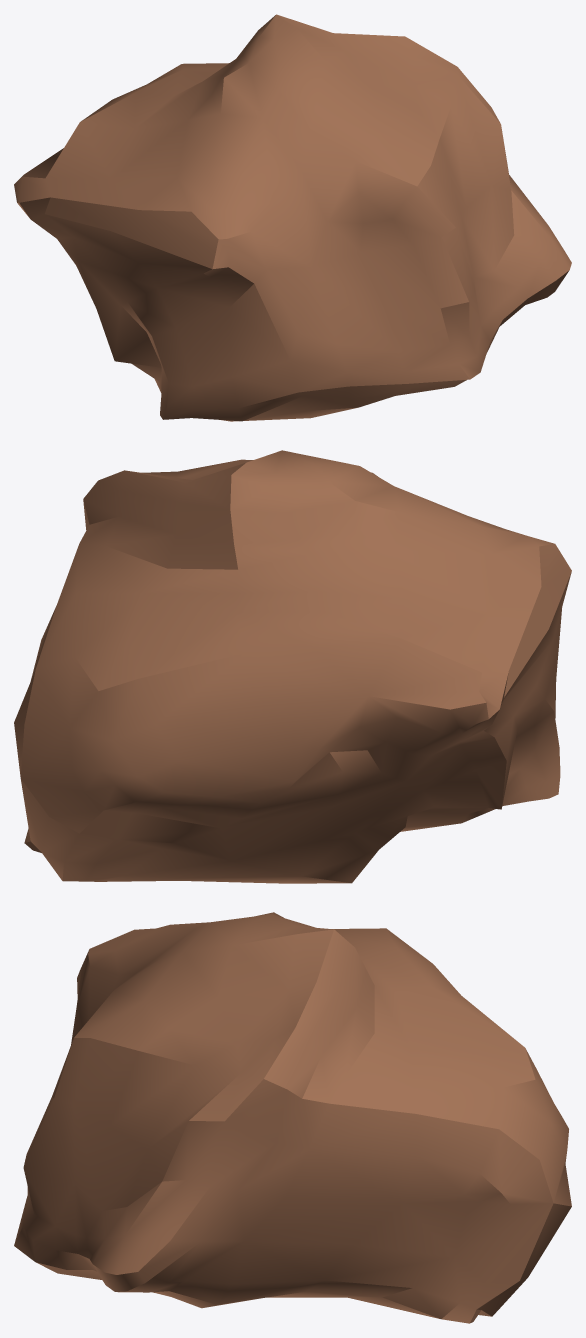
File: rock_big_1.fbx
3 views of the same model, one above another, from view 1: azimuth 30°, elevation 25°; view 2: azimuth 150°, elevation 25°; view 3: azimuth 270°, elevation 25° (orthographic). The views are drawn at different scales.
Parts seen in each view (by area): view 1: Retopo_Rock generator addon.004; view 2: Retopo_Rock generator addon.004; view 3: Retopo_Rock generator addon.004.
Boxes of the visible parts, x1,y1,x2,y2 form: Retopo_Rock generator addon.004: [14, 14, 571, 421]; Retopo_Rock generator addon.004: [14, 450, 571, 883]; Retopo_Rock generator addon.004: [14, 912, 571, 1323].
Size of the model in its own units: 125 by 91.86 by 125.
